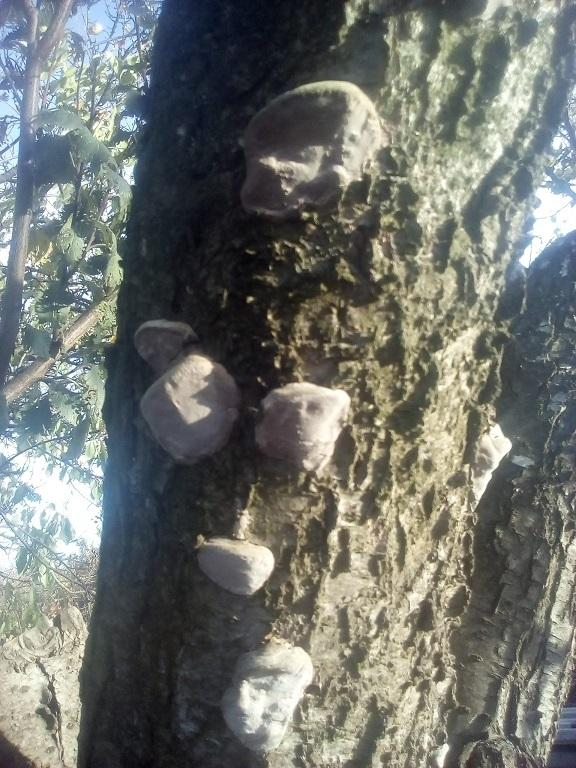Plum tinder fungus: (222, 60, 408, 225), (209, 633, 325, 752), (135, 358, 251, 463), (247, 373, 358, 478), (178, 527, 283, 597), (469, 412, 516, 519), (121, 307, 198, 362)
